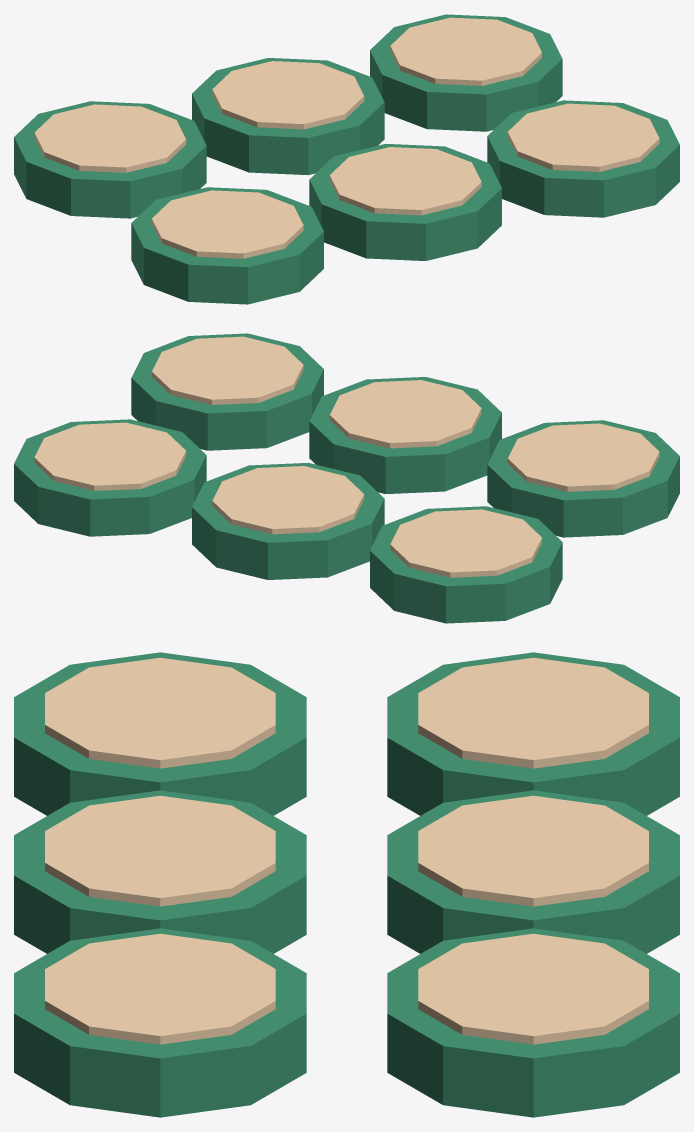
Rendered from cucumber-chopped.glb.
3 views of the same model, one above another, from view 1: azimuth 30°, elevation 25°; view 2: azimuth 150°, elevation 25°; view 3: azimuth 270°, elevation 25° (orthographic). The views are drawn at different scales.
Visible parts, largest first — view 1: cucumber-chopped; view 2: cucumber-chopped; view 3: cucumber-chopped.
Part boxes in pixels (x1=…): cucumber-chopped: x1=14, y1=14, x2=679, y2=304; cucumber-chopped: x1=14, y1=333, x2=679, y2=623; cucumber-chopped: x1=14, y1=652, x2=679, y2=1117.
Size of the model in its own units: 0.206 by 0.016 by 0.1428.
Materials: 1 (1 with a texture image).
